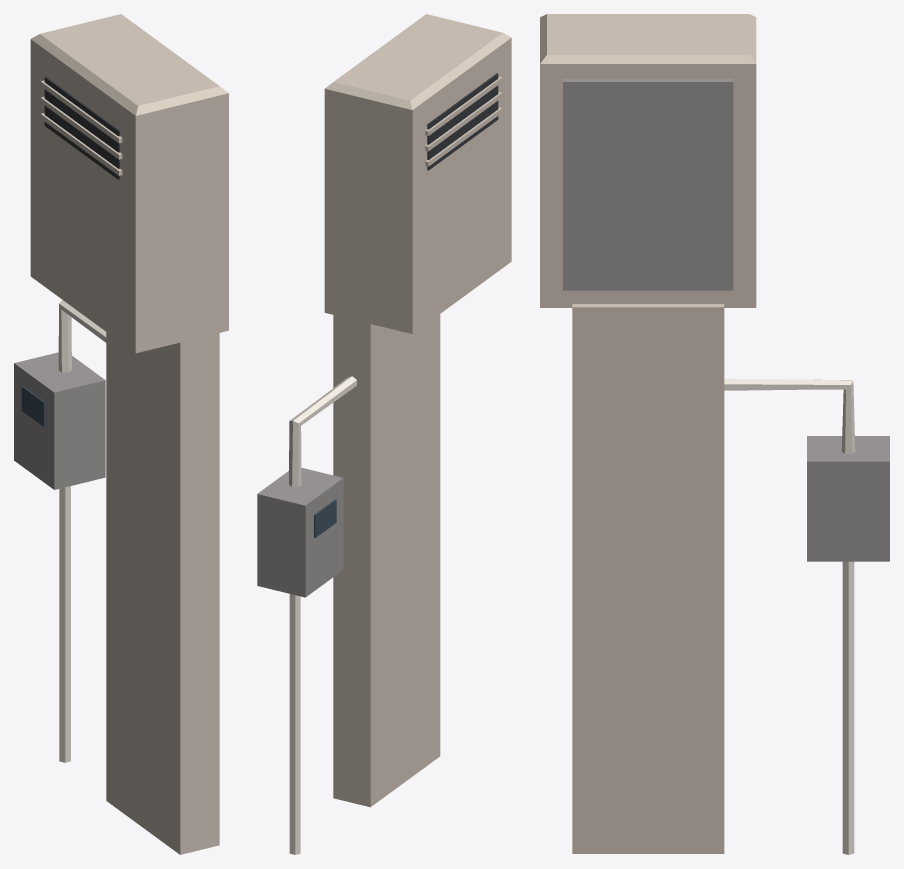
The model's file is SM_Fixture_WaterHeater_L_01.gltf.
3 renders of one model, left to right at view 1: azimuth 30°, elevation 25°; view 2: azimuth 150°, elevation 25°; view 3: azimuth 270°, elevation 25°, orthographic. The views are drawn at different scales.
Visible parts, largest first — view 1: SM_Fixture_WaterHeater_L_01; view 2: SM_Fixture_WaterHeater_L_01; view 3: SM_Fixture_WaterHeater_L_01.
Part boxes in pixels (x1=…): SM_Fixture_WaterHeater_L_01: x1=14, y1=14, x2=228, y2=854; SM_Fixture_WaterHeater_L_01: x1=257, y1=14, x2=511, y2=854; SM_Fixture_WaterHeater_L_01: x1=540, y1=14, x2=889, y2=854.
Bounding box in the file's own units: 0.266 × 1.92 × 0.76.
1 material, 1 textured.
